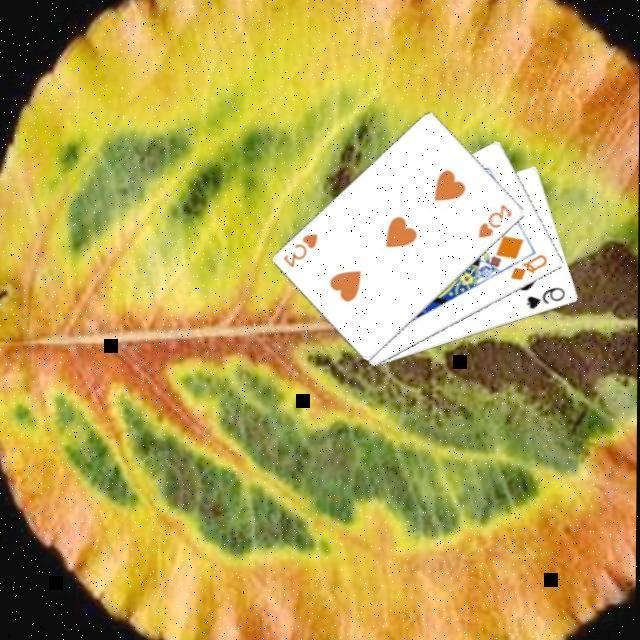3H: (476, 203, 516, 243), (282, 232, 322, 272)
9S: (524, 286, 569, 314)
QD: (509, 253, 552, 285)
